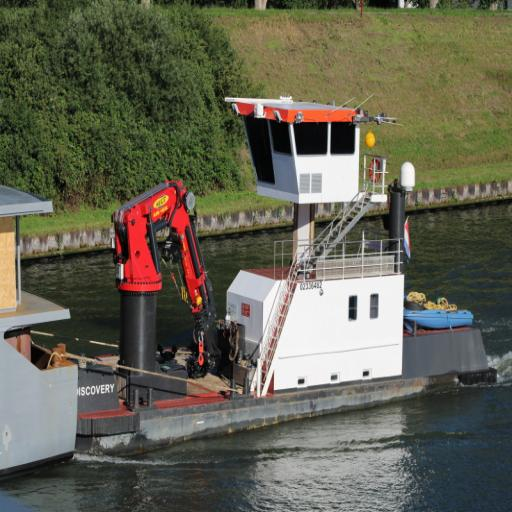tugboat: (58, 87, 501, 469)
